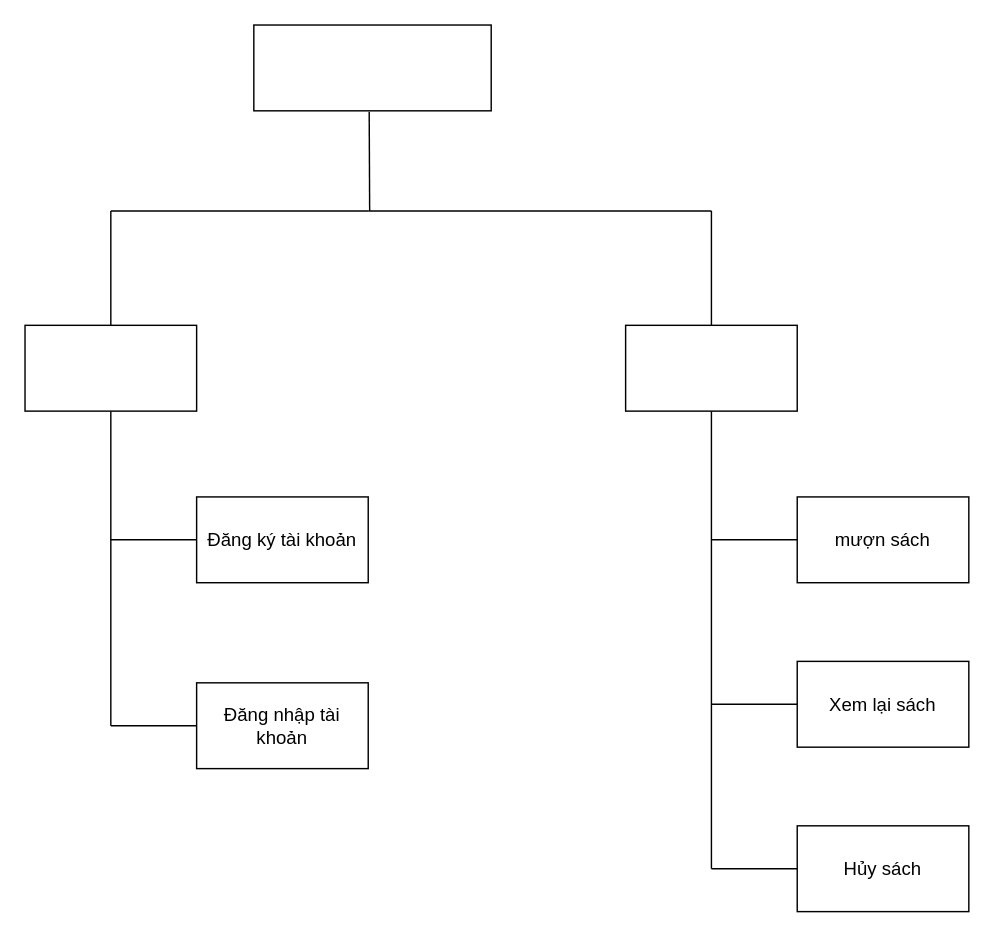
This 994x937 diagram has some shape labels left out. Each missing label, with the centre of its shape:
Quản lý hoạt sử dụng sách: point 710,367
Quản lý thư viện: point 371,67
Quản lý truy cập: point 110,367
